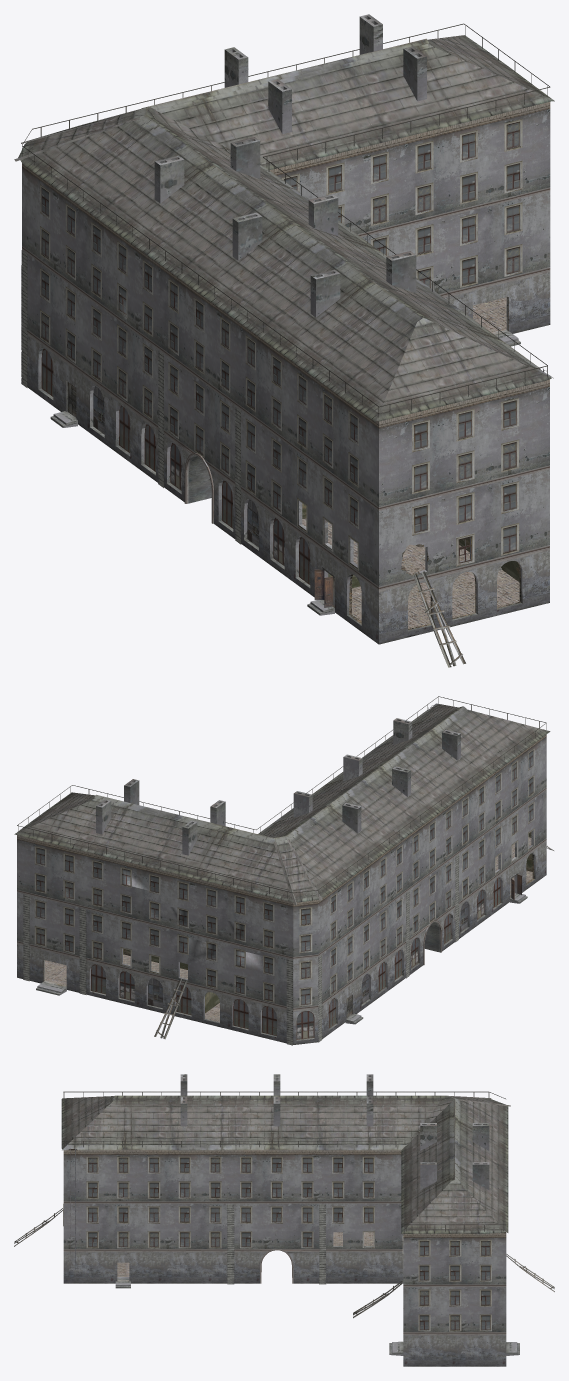
The model's file is Building_City_03_2_LOD3.FBX.
3 views of the same model, one above another, from view 1: azimuth 30°, elevation 25°; view 2: azimuth 150°, elevation 25°; view 3: azimuth 270°, elevation 25° (orthographic). The views are drawn at different scales.
Parts seen in each view (by area): view 1: Building_City_03_2_LOD3, Building_City_03_2Roof_LOD3, Building_City_03__2Frame_LOD3, Building_City_03_2Tube_LOD3, Stairs_Wood_LOD3; view 2: Building_City_03_2_LOD3, Building_City_03_2Roof_LOD3, Building_City_03__2Frame_LOD3, Building_City_03_2Tube_LOD3, Stairs_Wood_LOD3; view 3: Building_City_03_2_LOD3, Building_City_03_2Roof_LOD3, Building_City_03__2Frame_LOD3, Building_City_03_2Tube_LOD3.
Boxes of the visible parts, x1,y1,x2,y2 form: Building_City_03_2_LOD3: [21, 102, 550, 644]; Building_City_03_2Roof_LOD3: [14, 23, 554, 422]; Building_City_03__2Frame_LOD3: [40, 119, 522, 570]; Building_City_03_2Tube_LOD3: [154, 14, 426, 317]; Stairs_Wood_LOD3: [413, 571, 465, 667]; Building_City_03_2_LOD3: [17, 734, 546, 1045]; Building_City_03_2Roof_LOD3: [14, 696, 550, 905]; Building_City_03__2Frame_LOD3: [34, 748, 534, 1006]; Building_City_03_2Tube_LOD3: [96, 718, 460, 855]; Stairs_Wood_LOD3: [154, 978, 187, 1039]; Building_City_03_2_LOD3: [63, 1149, 519, 1366]; Building_City_03_2Roof_LOD3: [61, 1091, 510, 1233]; Building_City_03__2Frame_LOD3: [63, 1156, 491, 1331]; Building_City_03_2Tube_LOD3: [180, 1074, 489, 1190].
Bounding box in the file's own units: 3703 × 6136 × 2141.
5 materials, 5 textured.
